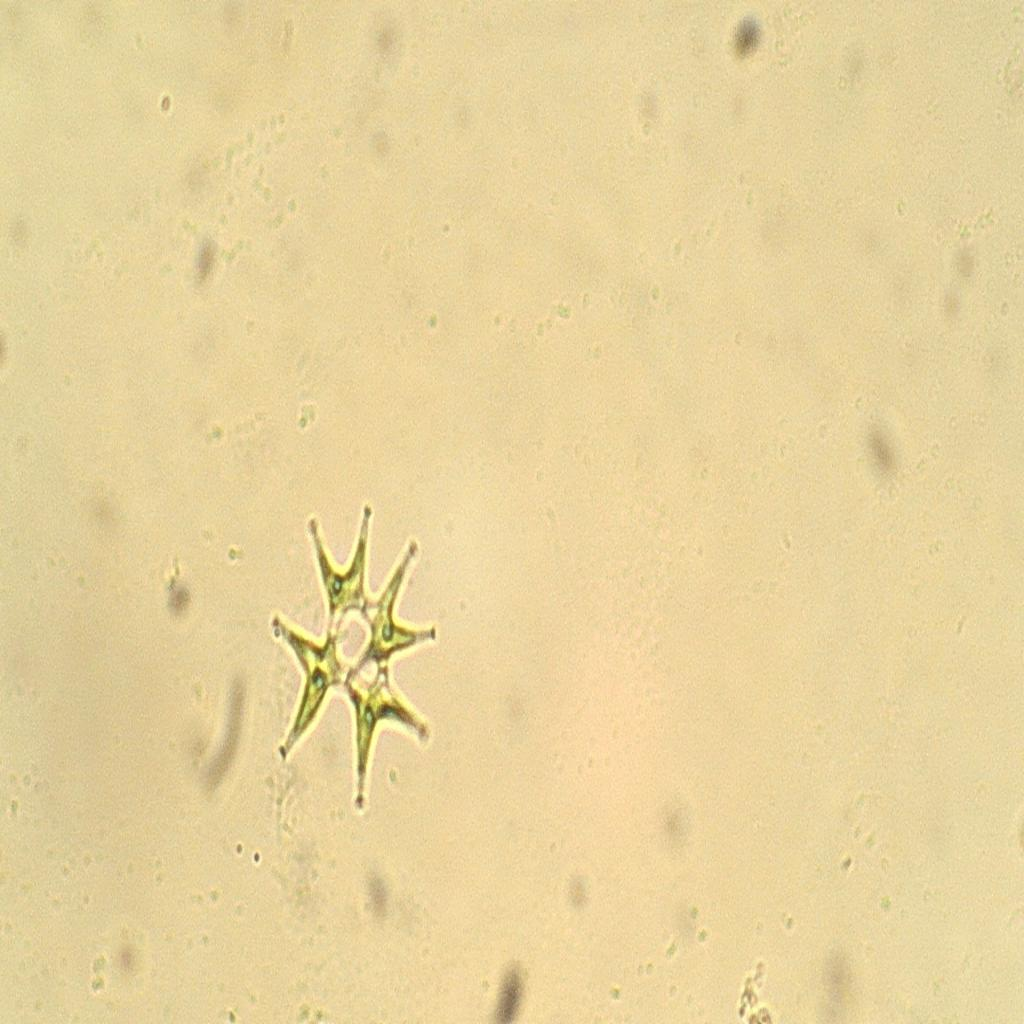Pediastrum_CF: (253, 484, 471, 826)
